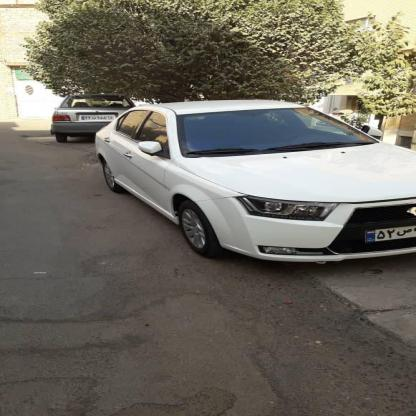Car: (81, 87, 416, 272), (39, 94, 137, 144)
